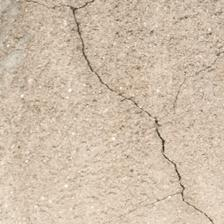Crack: (31, 13, 146, 107), (84, 98, 151, 224)
